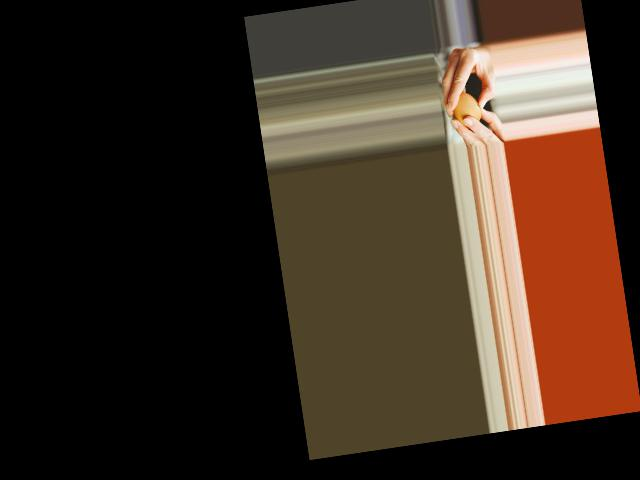egg: (449, 90, 483, 129)
